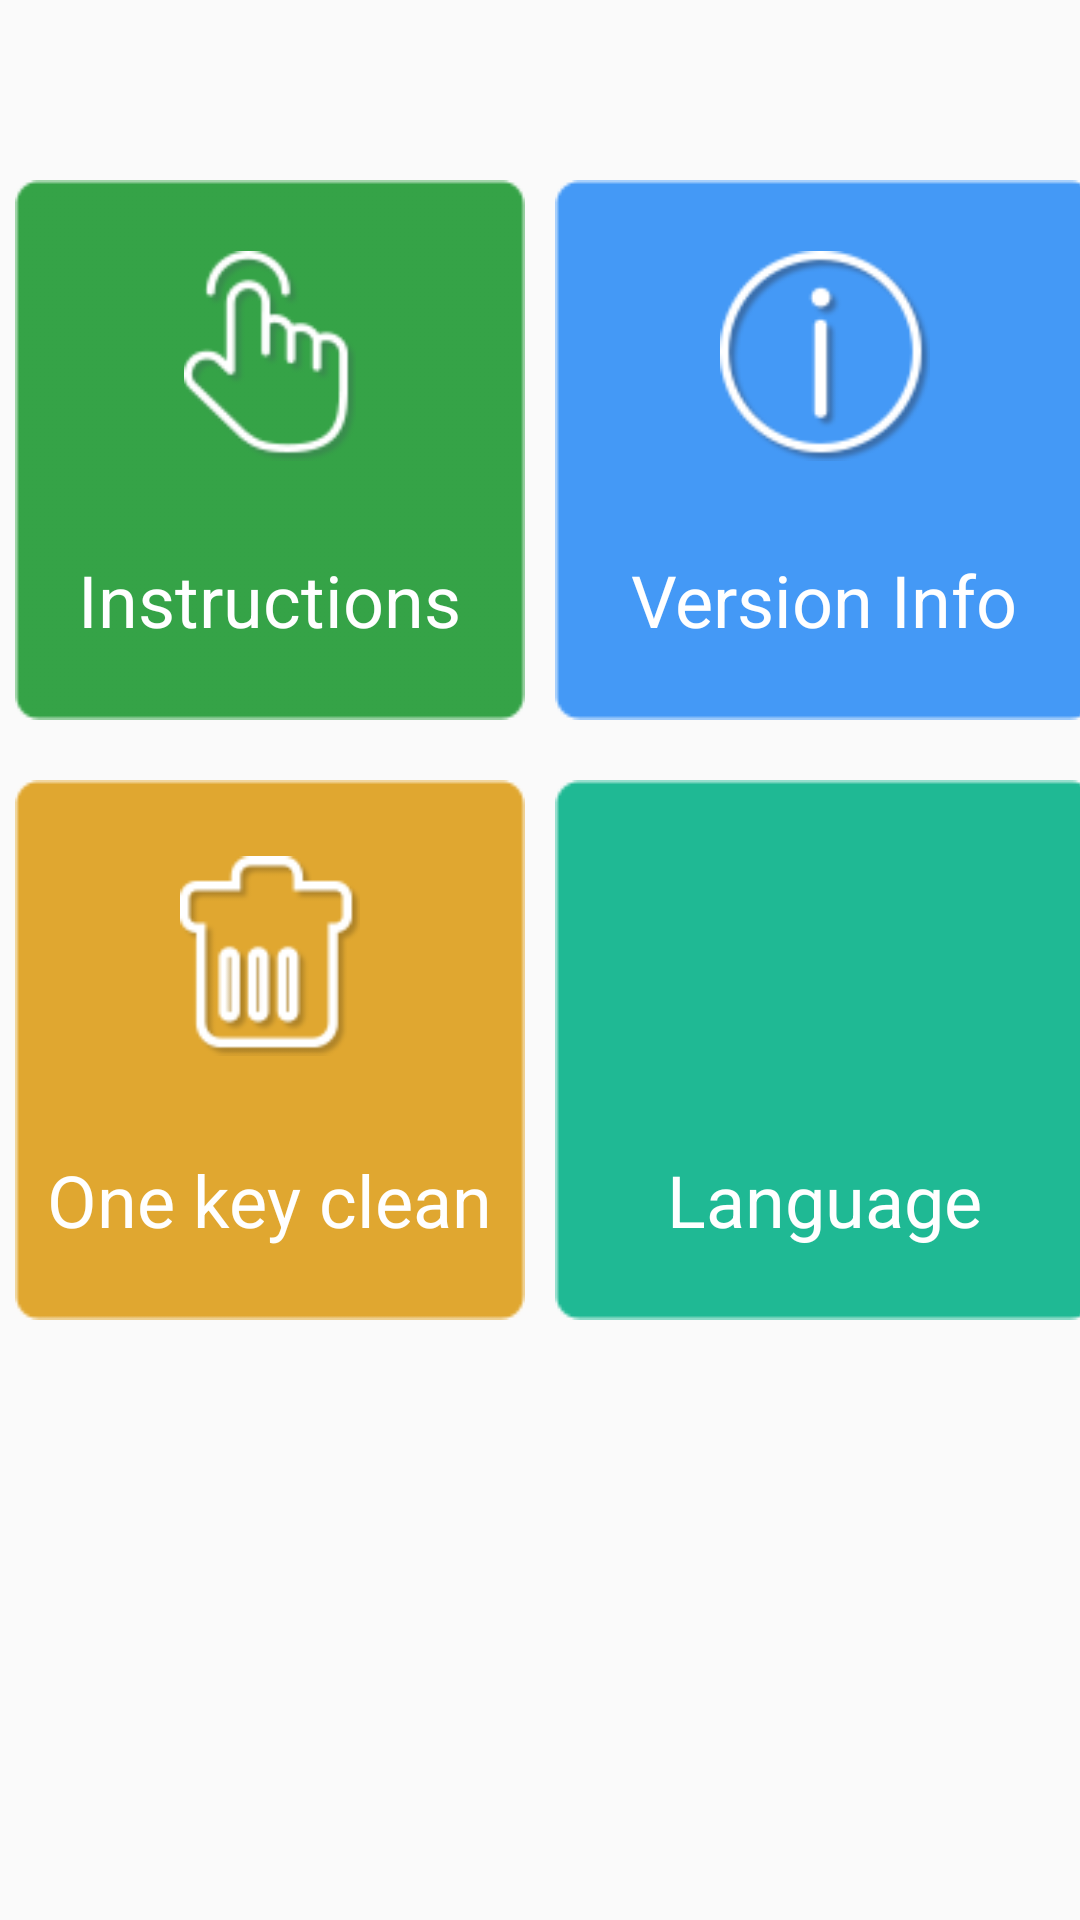

Icon click points for this 1080 x 1920 phone screenshot, format [x,y]:
versions: [824,355]
